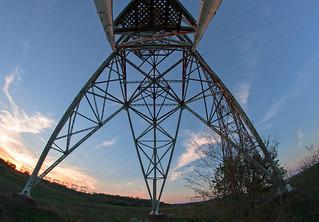power_tower: (26, 0, 294, 216)
